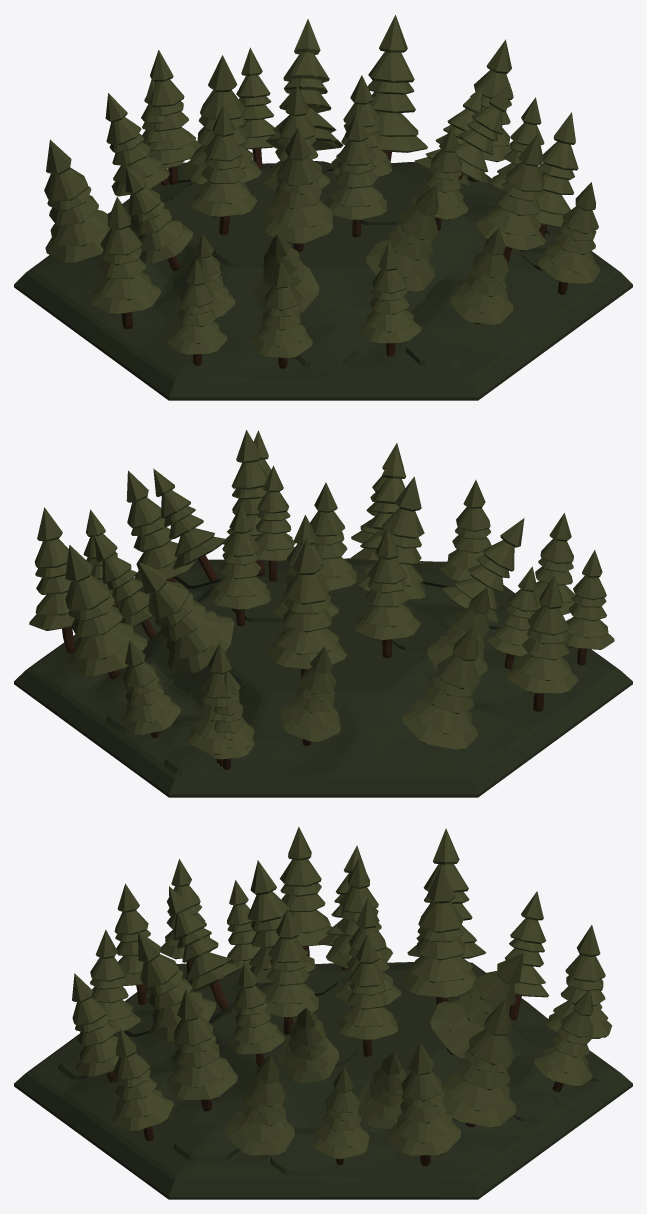
Rendered from taiga.glb.
3 views of the same model, one above another, from view 1: azimuth 30°, elevation 25°; view 2: azimuth 150°, elevation 25°; view 3: azimuth 270°, elevation 25° (orthographic).
Visible parts, largest first — view 1: taiga; view 2: taiga; view 3: taiga.
Boxes of the visible parts, x1,y1,x2,y2 form: taiga: (14, 15, 632, 400); taiga: (14, 430, 632, 797); taiga: (14, 826, 632, 1199).
Size of the model in its own units: 1.78 by 0.7121 by 2.
